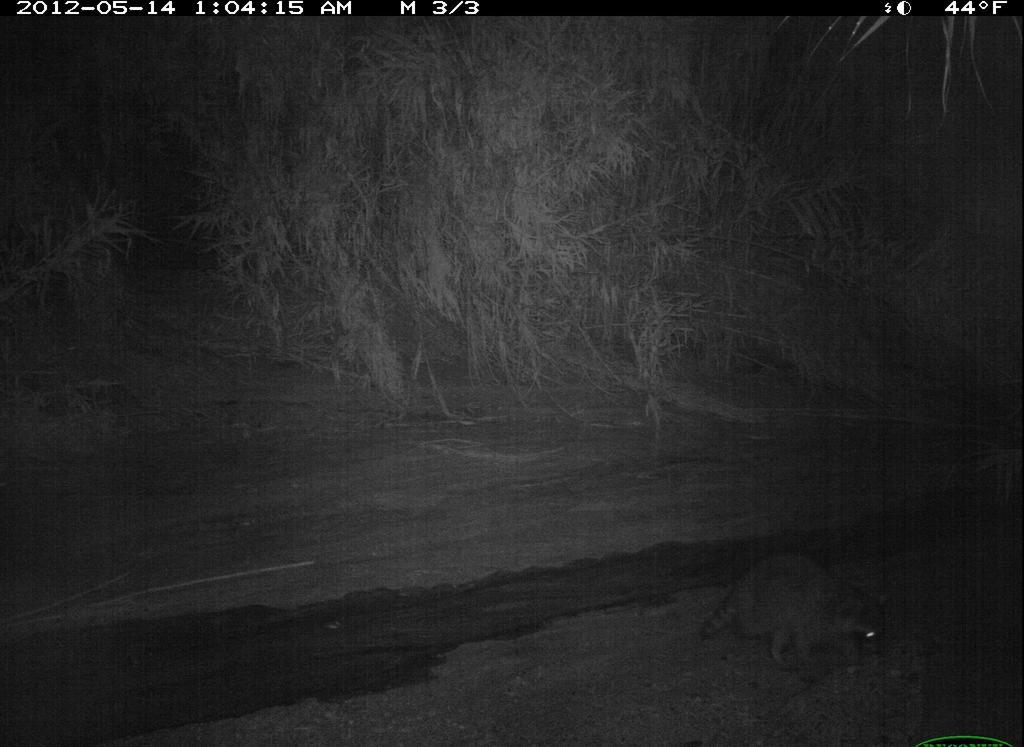raccoon: (706, 546, 907, 667)
